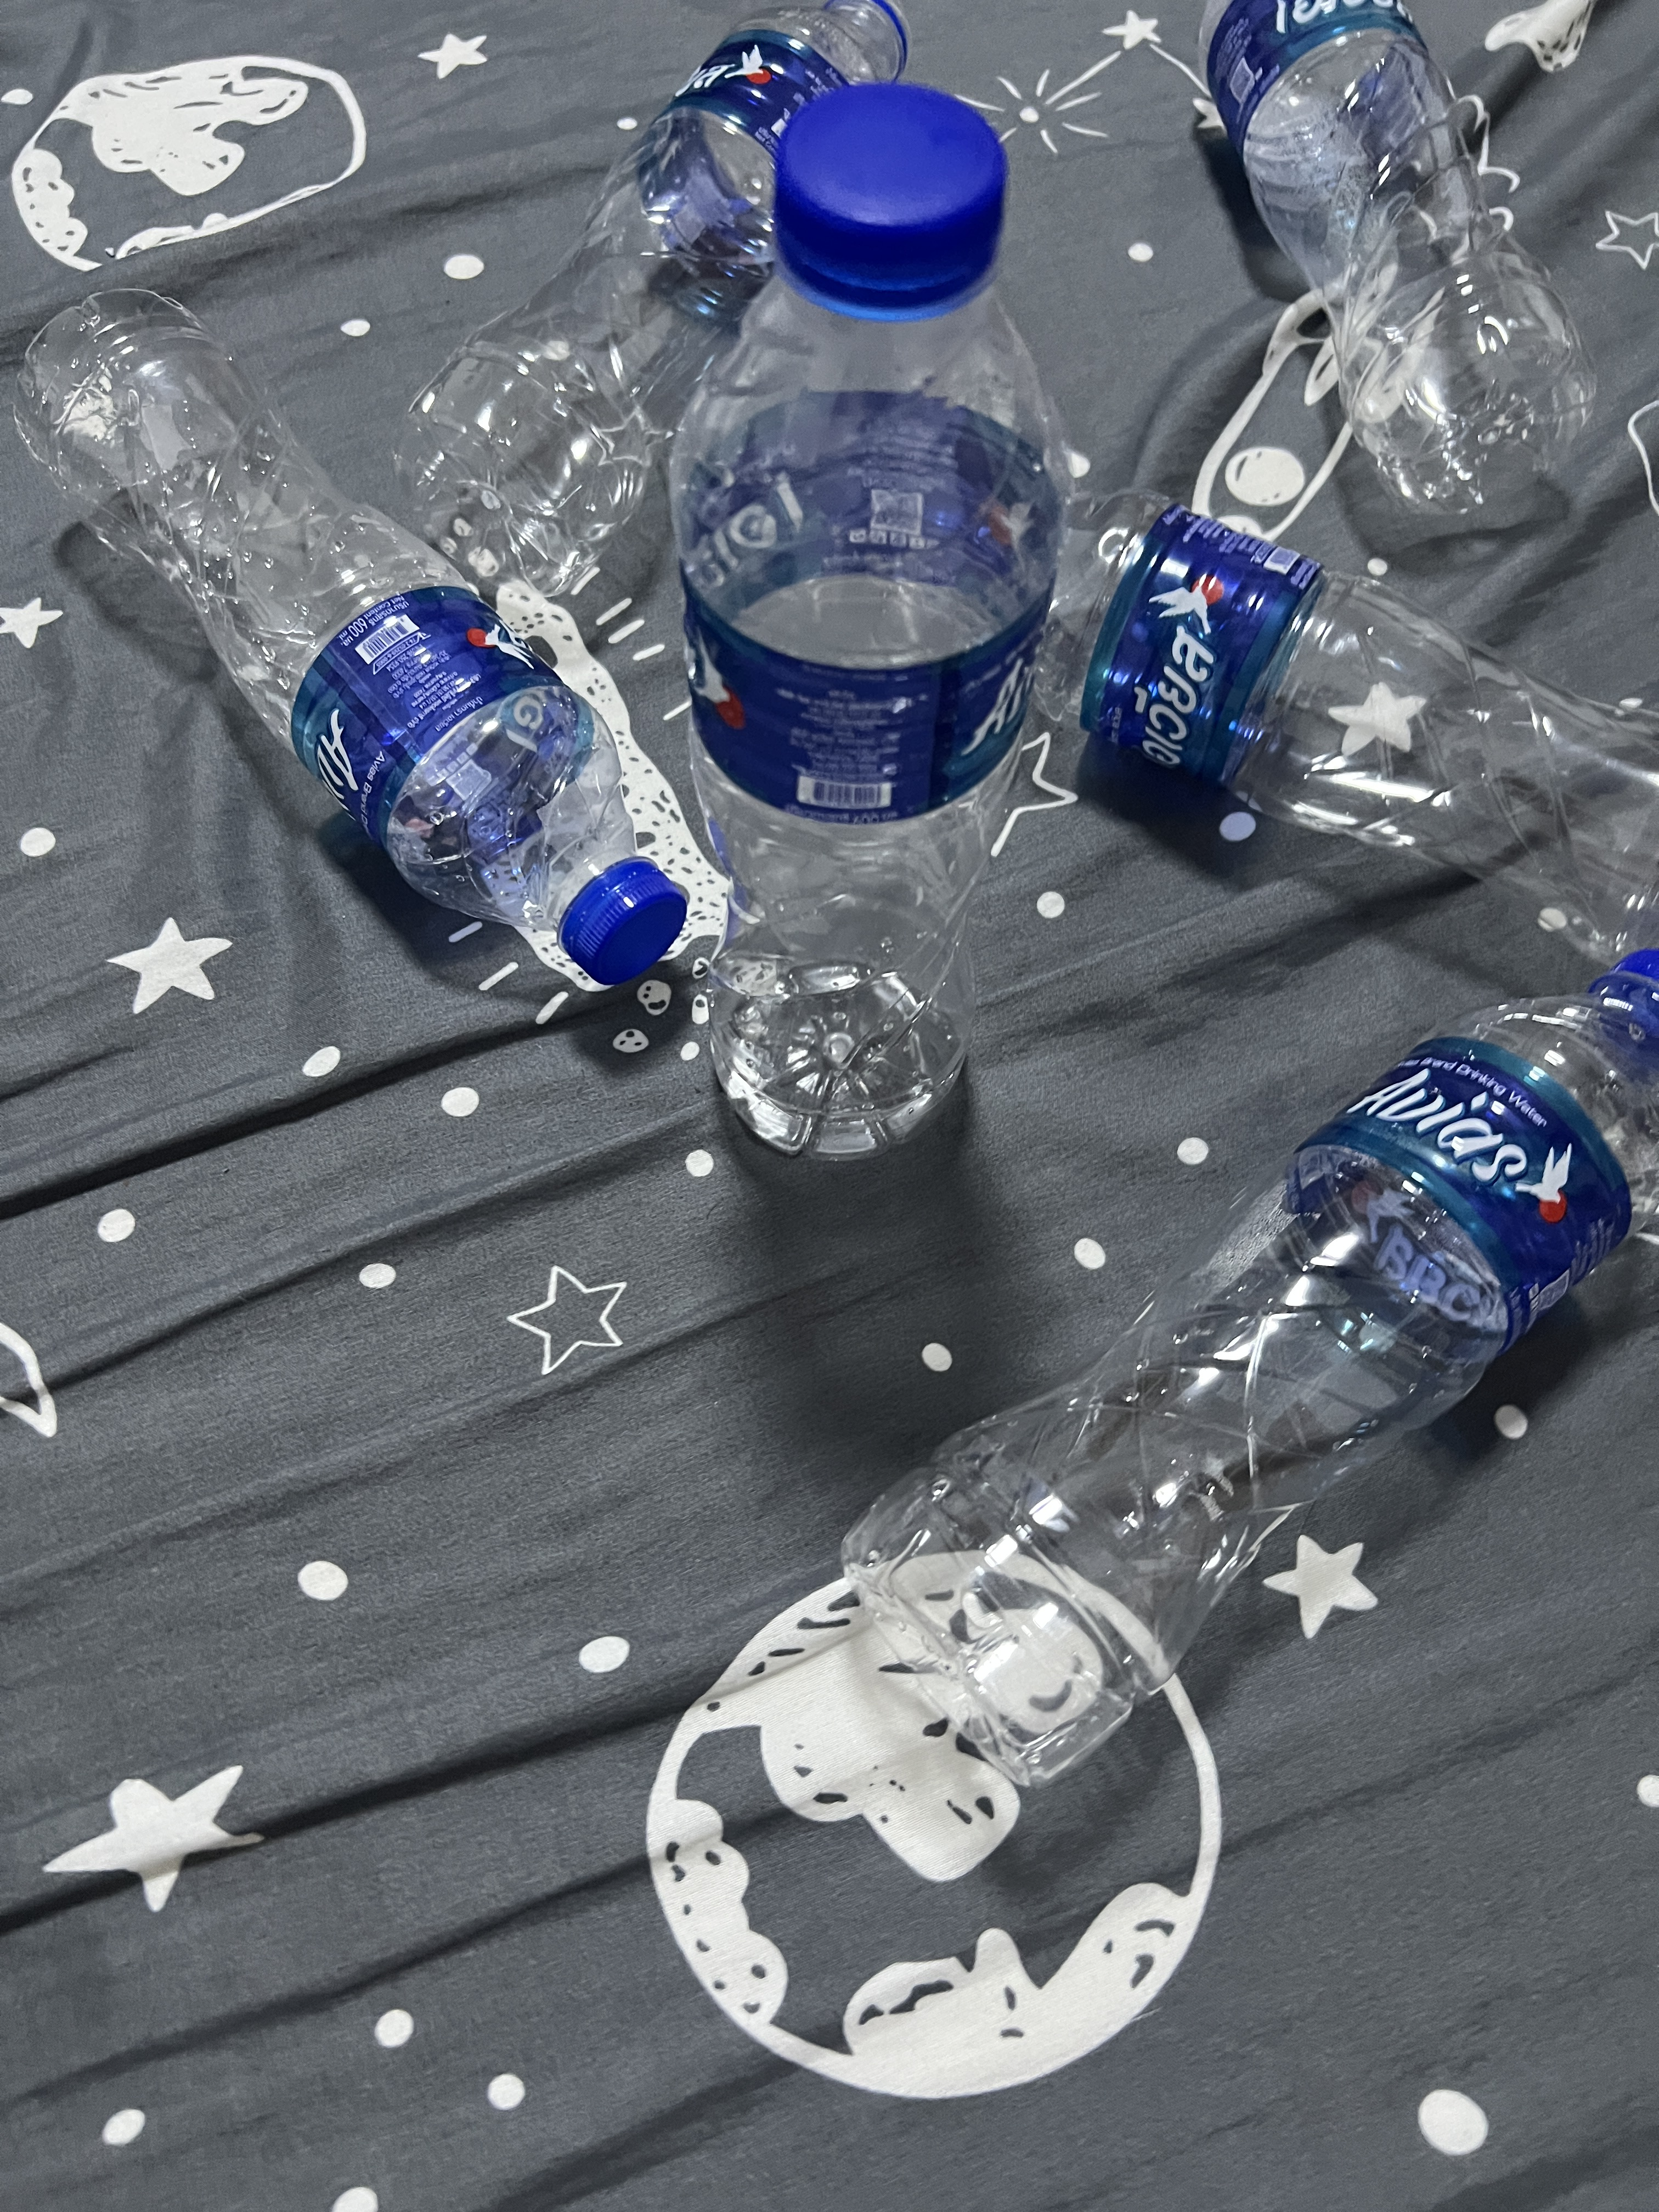plastic_bottle: (843, 942, 1659, 1791), (10, 272, 690, 1045), (667, 98, 1035, 1202), (1046, 458, 1659, 941), (443, 0, 920, 566), (1152, 2, 1631, 540)
